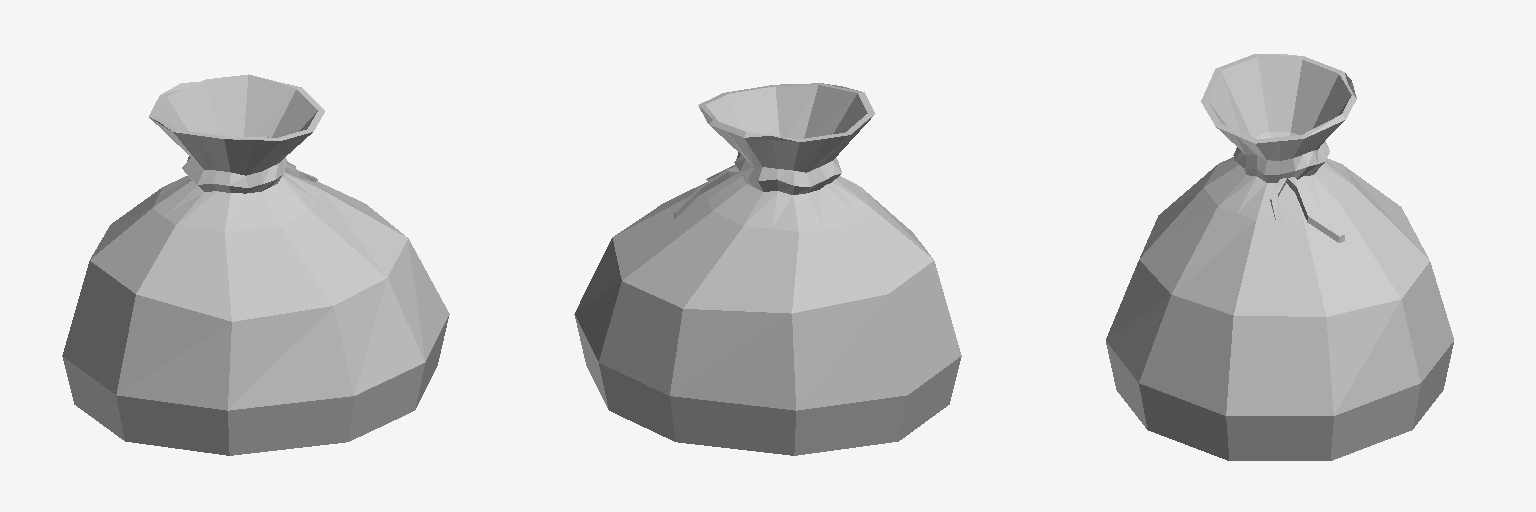
Rendered from closedbag01.obj.
The picture shows the model from 3 angles: view 1: azimuth 30°, elevation 25°; view 2: azimuth 150°, elevation 25°; view 3: azimuth 270°, elevation 25°; orthographic projection.
Visible parts, largest first — view 1: Cylinder.001_Cylinder.003; view 2: Cylinder.001_Cylinder.003; view 3: Cylinder.001_Cylinder.003.
Part boxes in pixels (x1,y1,x2,y2): Cylinder.001_Cylinder.003: (62, 74, 449, 455); Cylinder.001_Cylinder.003: (574, 83, 961, 455); Cylinder.001_Cylinder.003: (1106, 54, 1453, 460).
Bounding box in the file's own units: 0.1525 × 0.1364 × 0.1382.